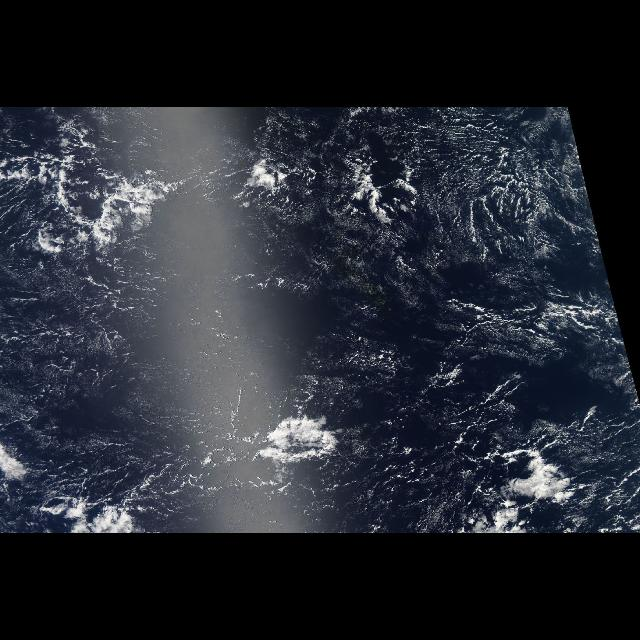Gravel: (376, 111, 632, 362), (195, 390, 482, 532)
Sugar: (1, 241, 383, 465), (390, 113, 588, 391)
